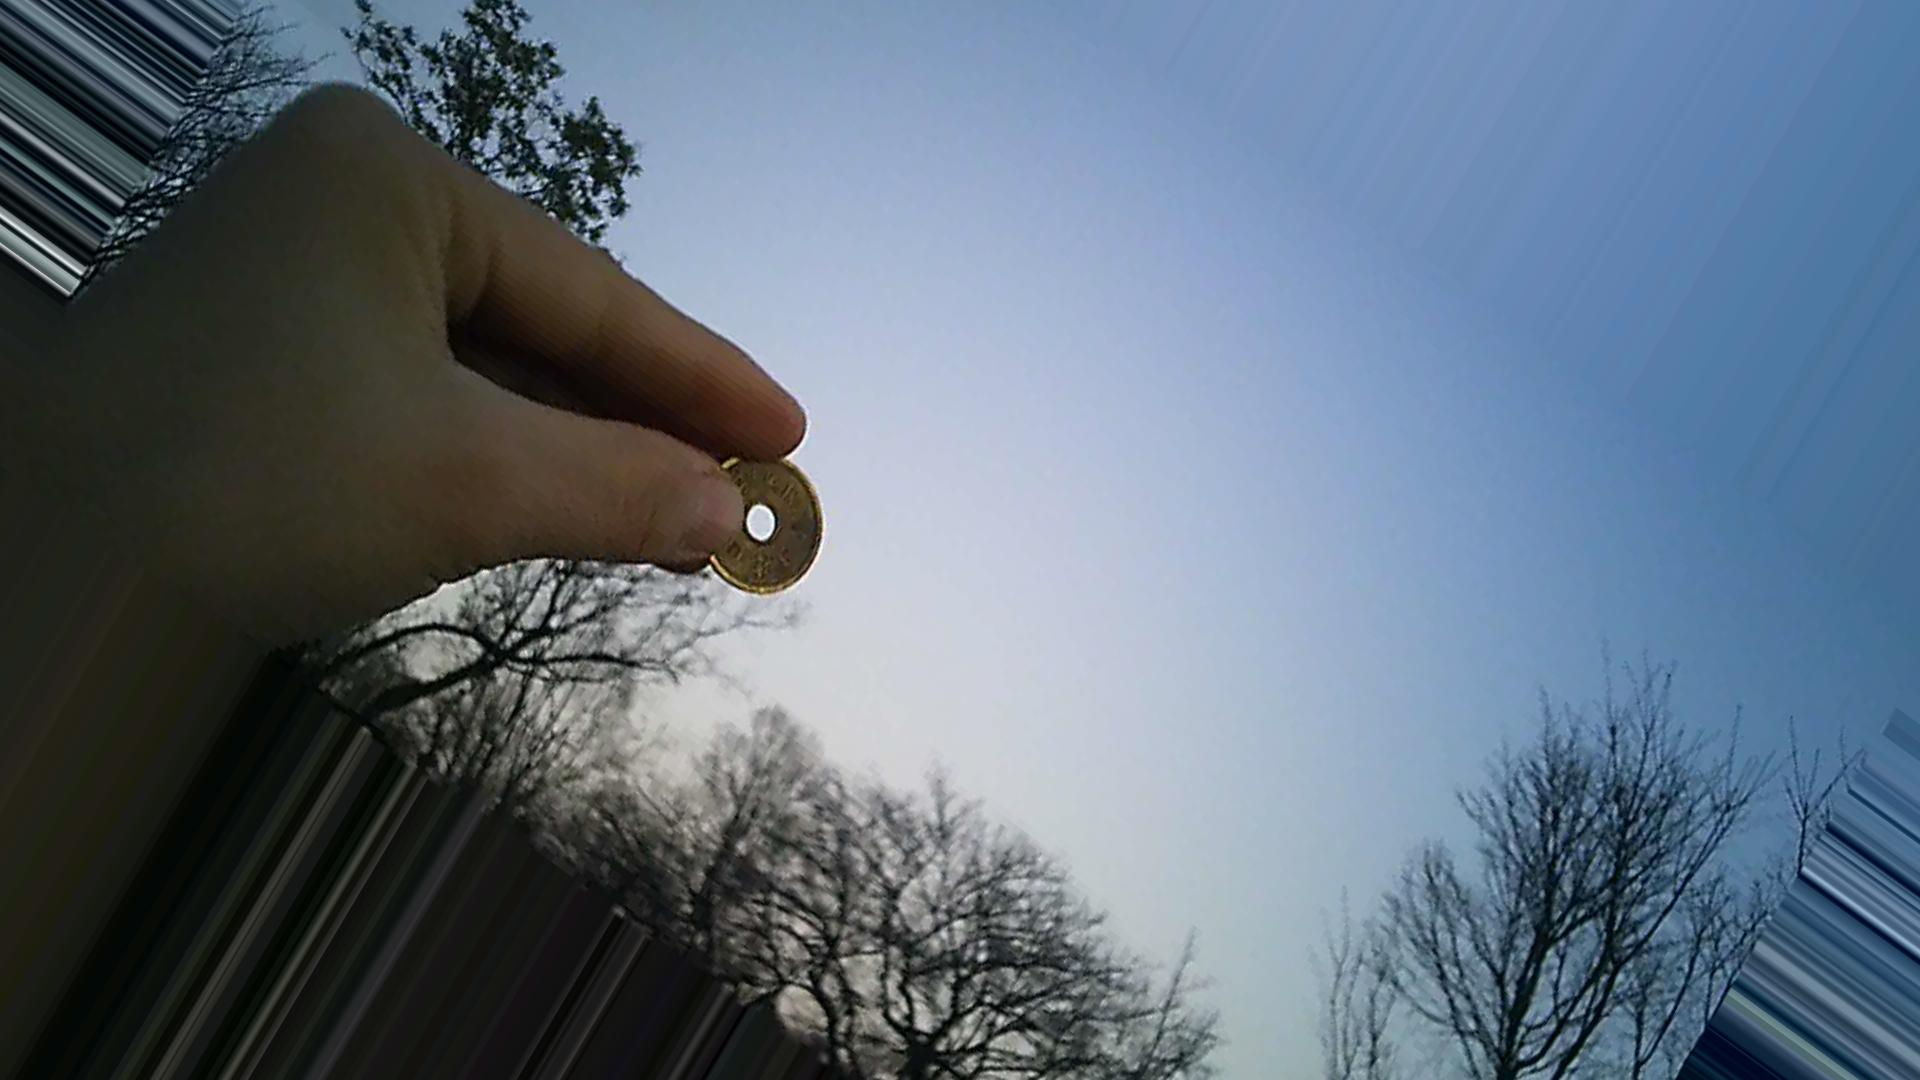5 Yen: (700, 430, 825, 599)
